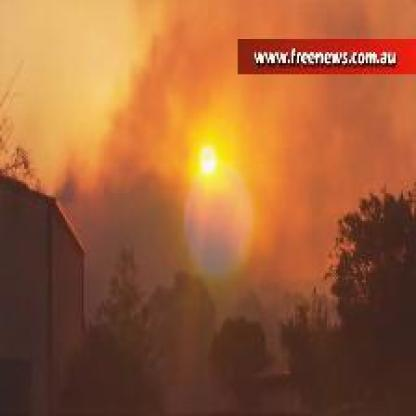other: (178, 123, 238, 198)
